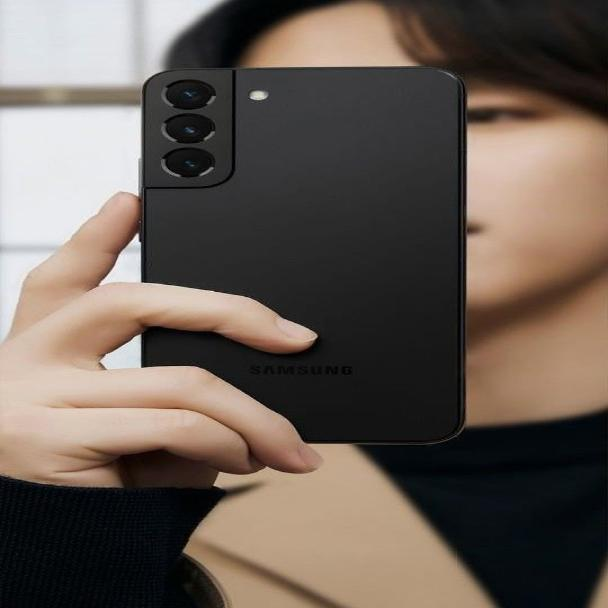Handphone: (138, 67, 473, 447)
